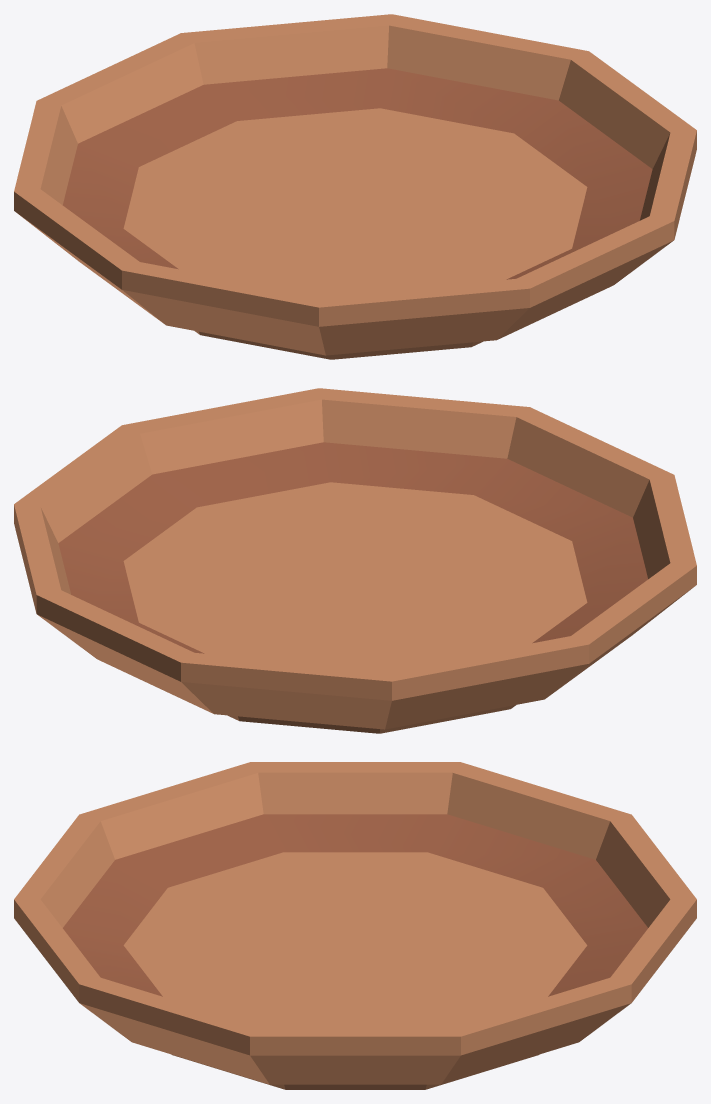
Rendered from tajine.fbx.
The picture shows the model from 3 angles, top to bottom: view 1: azimuth 30°, elevation 25°; view 2: azimuth 150°, elevation 25°; view 3: azimuth 270°, elevation 25°; orthographic projection. The views are drawn at different scales.
Visible parts, largest first — view 1: tajine; view 2: tajine; view 3: tajine.
Part boxes in pixels (x1,y1,x2,y2): tajine: (14, 14, 696, 359); tajine: (14, 388, 696, 733); tajine: (14, 762, 696, 1089).
Size of the model in its own units: 8.19 by 1.38 by 8.61.
